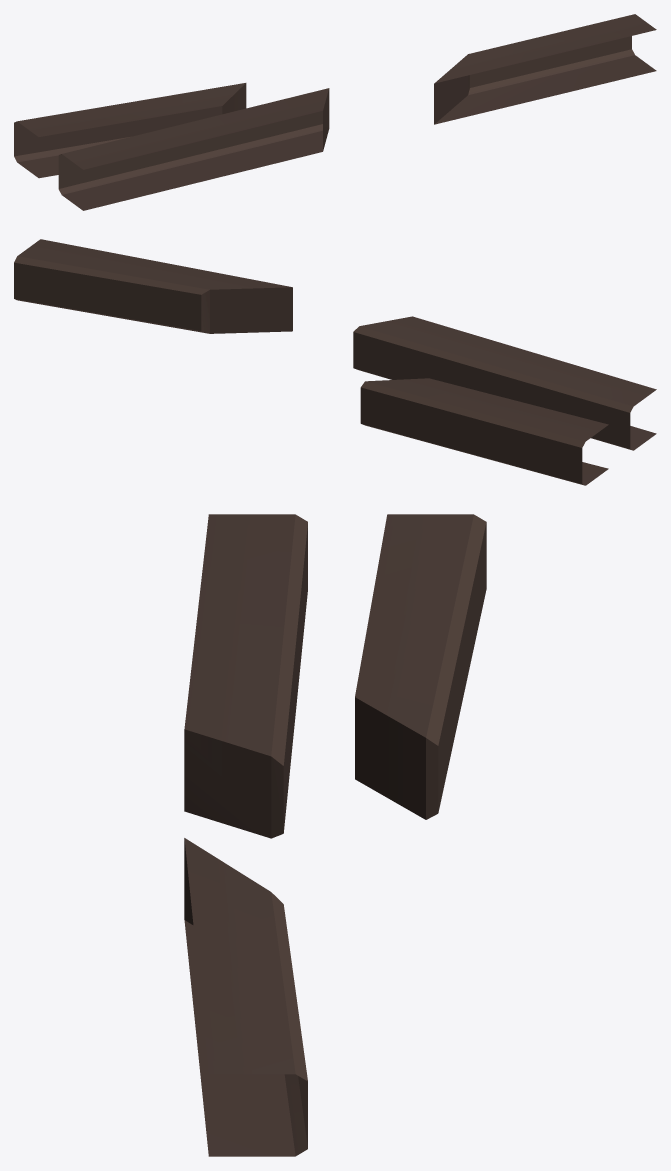
The model's file is Wood Bridge Railing 02.FBX.
3 renders of one model, top to bottom at view 1: azimuth 30°, elevation 25°; view 2: azimuth 150°, elevation 25°; view 3: azimuth 270°, elevation 25°, orthographic. The views are drawn at different scales.
Visible parts, largest first — view 1: Wood Bridge Railing 02; view 2: Wood Bridge Railing 02; view 3: Wood Bridge Railing 02.
Part boxes in pixels (x1=…): Wood Bridge Railing 02: x1=14, y1=14, x2=656, y2=210; Wood Bridge Railing 02: x1=14, y1=239, x2=656, y2=485; Wood Bridge Railing 02: x1=184, y1=514, x2=486, y2=1156.
Size of the model in its own units: 200 by 17.77 by 45.61.
